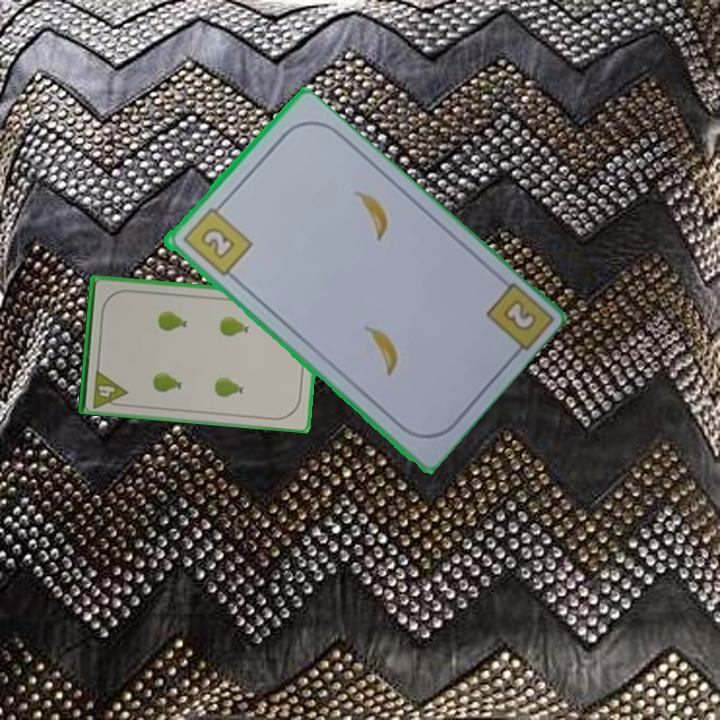2b: (178, 199, 255, 279), (498, 295, 539, 335)
4p: (89, 365, 130, 410)
